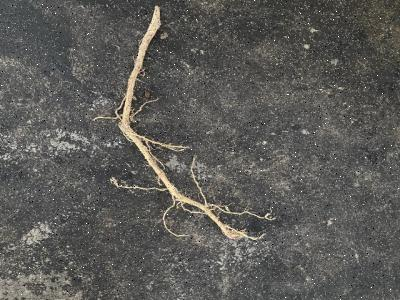Root: (96, 6, 262, 239)
